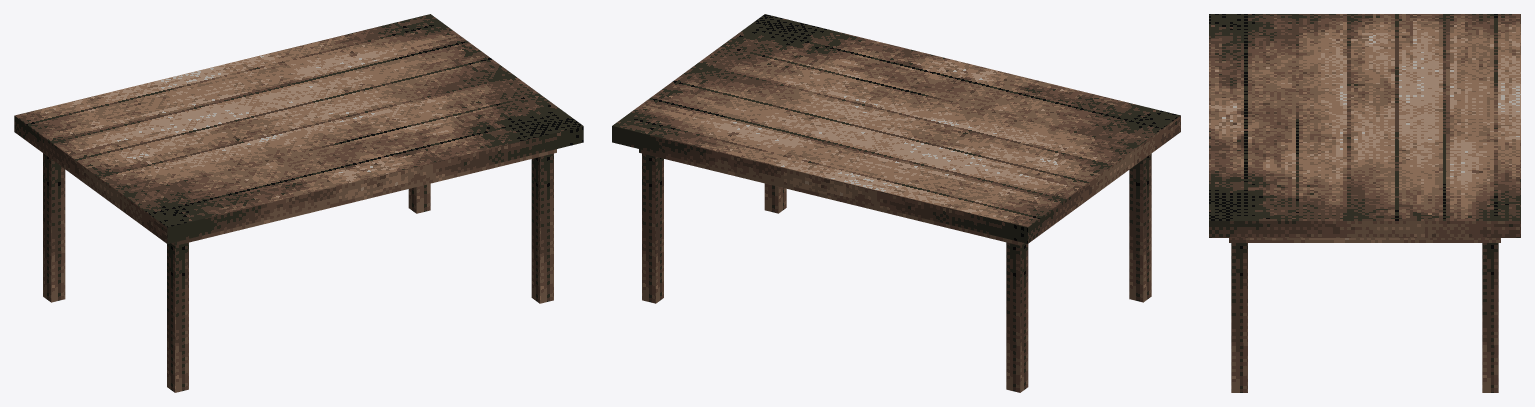
File: table_eat.glb
3 views of the same model, side by side, from view 1: azimuth 30°, elevation 25°; view 2: azimuth 150°, elevation 25°; view 3: azimuth 270°, elevation 25° (orthographic).
Parts seen in each view (by area): view 1: table_eat-col; view 2: table_eat-col; view 3: table_eat-col.
Part boxes in pixels (bbox=[...]): table_eat-col: bbox=[14, 14, 583, 392]; table_eat-col: bbox=[612, 14, 1180, 392]; table_eat-col: bbox=[1209, 14, 1520, 392].
Bounding box in the file's own units: 1.57 × 0.6415 × 1.
Materials: 1 (1 with a texture image).
